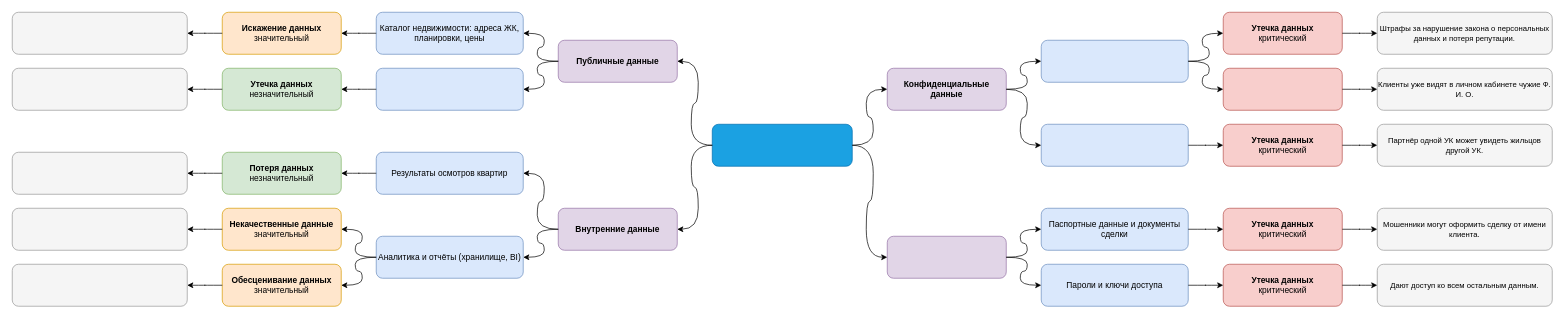
The diagram is 1565 pixels wide and 319 high, and some of its shapes have lost their labels. Each missing label, with the box of its shape:
Без правил хранения данные нельзя использовать для новых BI/ML-сервисов.: (12, 264, 187, 306)
Безопасность данных: (712, 124, 852, 166)
Данные приходят из разных систем без проверки, есть дубли клиентов.: (12, 208, 187, 250)
Неверная цена на витрине вводит клиента в заблуждение и ведёт к спорам.: (12, 12, 187, 54)
Некачественные данные критический: (1223, 68, 1342, 110)
Новости компании и ход строительства: (376, 68, 523, 110)
Осмотр можно провести повторно.: (12, 152, 187, 194)
Персональные данные клиентов: Ф. И. О., телефон, email: (1041, 40, 1188, 82)
Персональные данные собственников: (1041, 124, 1188, 166)
Секретные данные: (887, 236, 1006, 278)
Эти данные и так открыты всем.: (12, 68, 187, 110)
